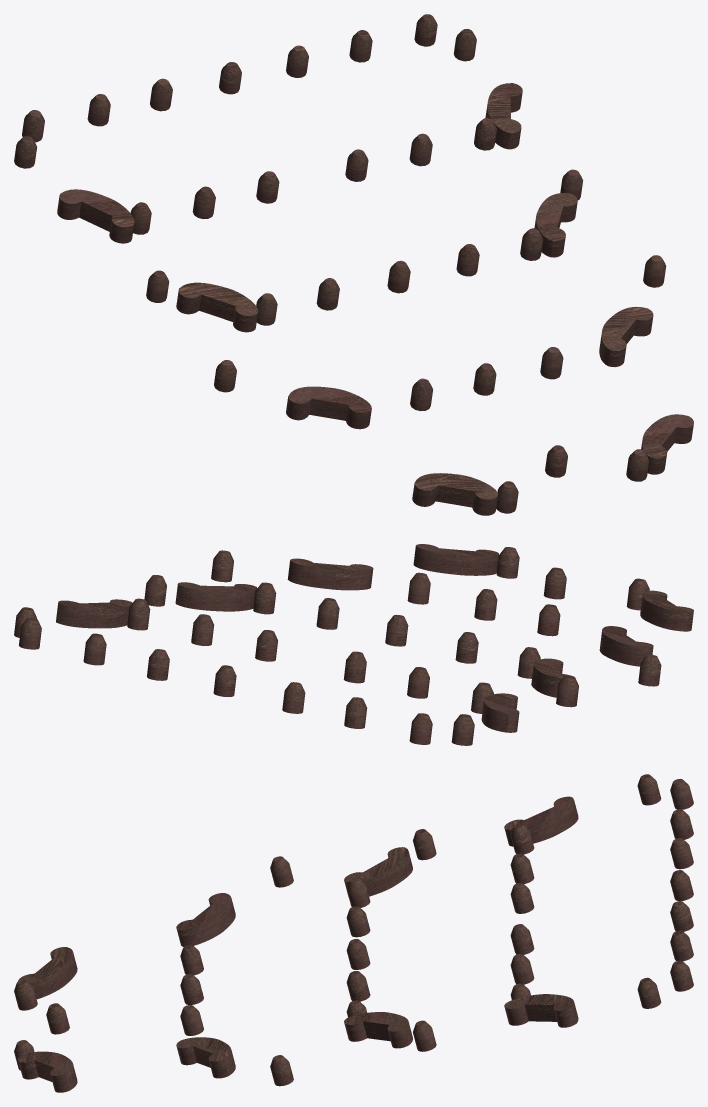
File: bingoPivotes.obj
3 renders of one model, top to bottom at view 1: azimuth 30°, elevation 25°; view 2: azimuth 150°, elevation 25°; view 3: azimuth 270°, elevation 25°, orthographic. The views are drawn at different scales.
Visible parts, largest first — view 1: bordes; view 2: bordes; view 3: bordes.
Boxes of the visible parts, <box> form: bordes: <box>14,14,693,515</box>; bordes: <box>14,544,693,745</box>; bordes: <box>14,774,693,1092</box>.
Size of the model in its own units: 31.55 by 11.66 by 42.55.
